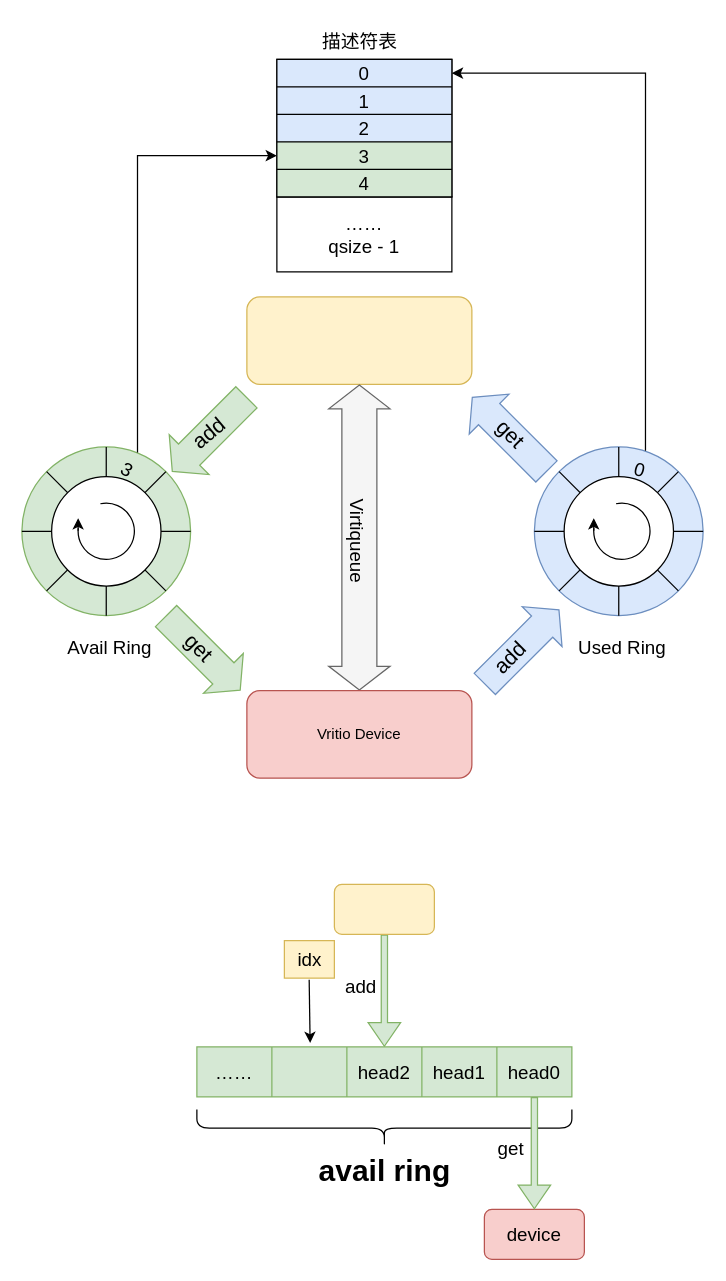
Some shapes in this 726 by 1281 pixel diagram are drawn without their labels. Here are the shapes that lost their labels. From the top down, the centre of each, then its label:
[359,340]: Guest OS Virtio driver
[383,908]: dirver
